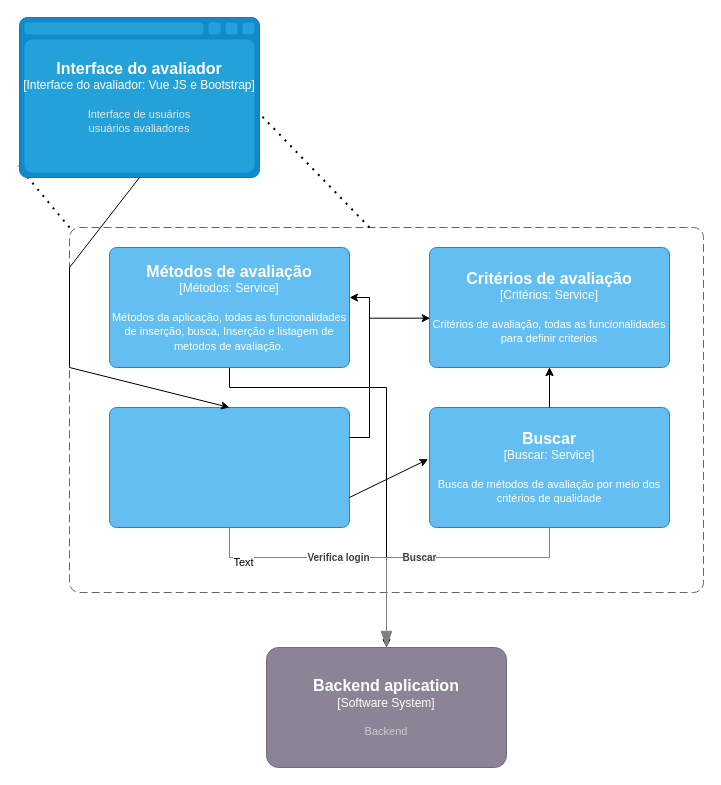
Some shapes in this 721 by 785 pixel diagram are drawn without their labels. The box of each missing label's shape, as (x1, y1, x2, y2) in pixels:
Interface do avaliador [Componente]: (68, 226, 704, 592)
Login [Login: Service] Validar dados inseridos: (108, 406, 350, 528)
